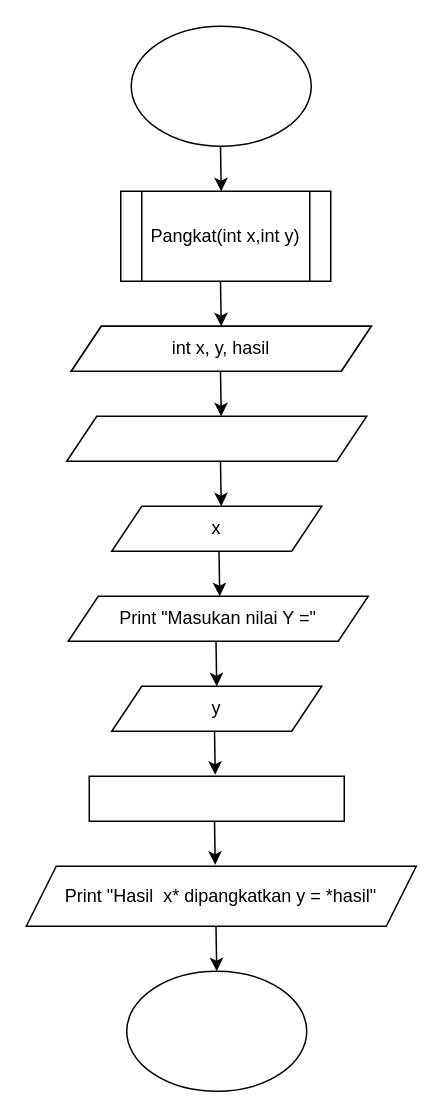
The diagram is 443 pixels wide and 1118 high, and some of its shapes have lost their labels. The shapes that lost their labels are listed below. From the top down, each one's box as (x1, y1, x2, y2) in pixels, then its label:
(130, 25, 311, 146): START
(65, 415, 367, 461): Print "Masukan nilai X ="
(88, 775, 344, 821): Hasil = Pangkat (x,y)
(125, 970, 307, 1091): END
